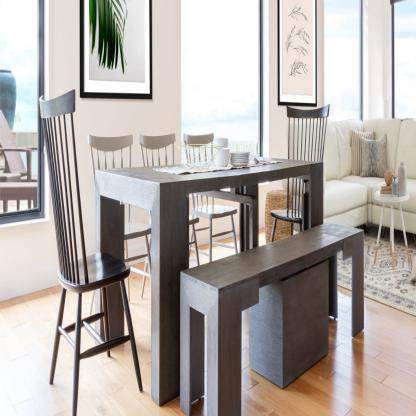table: (92, 148, 326, 410)
